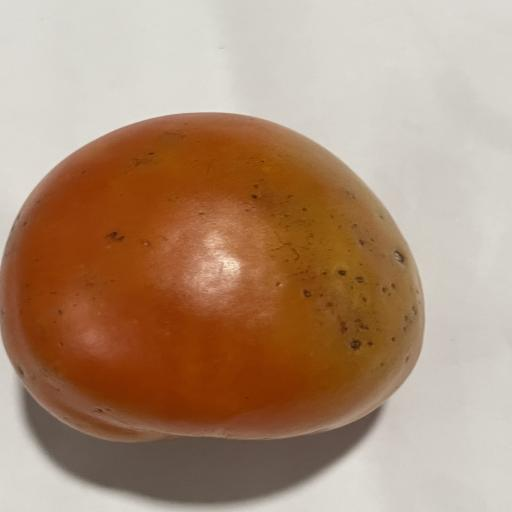ripe: (0, 113, 424, 441)
